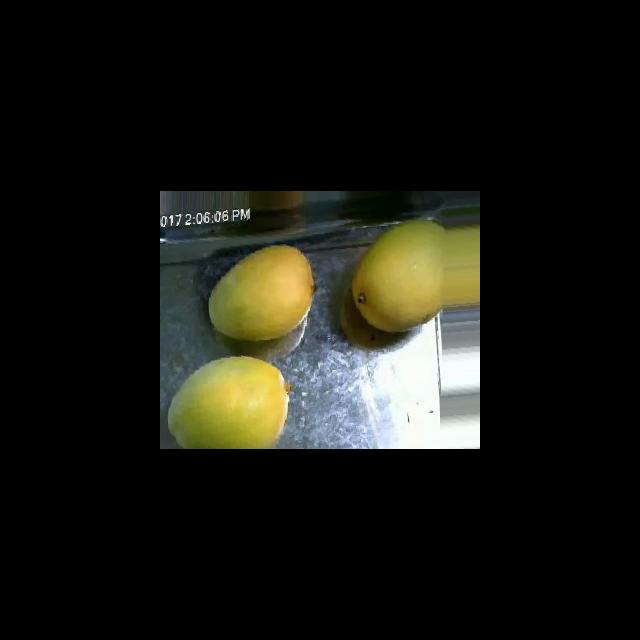mango: (167, 355, 291, 448), (351, 218, 444, 333), (207, 243, 314, 341)
